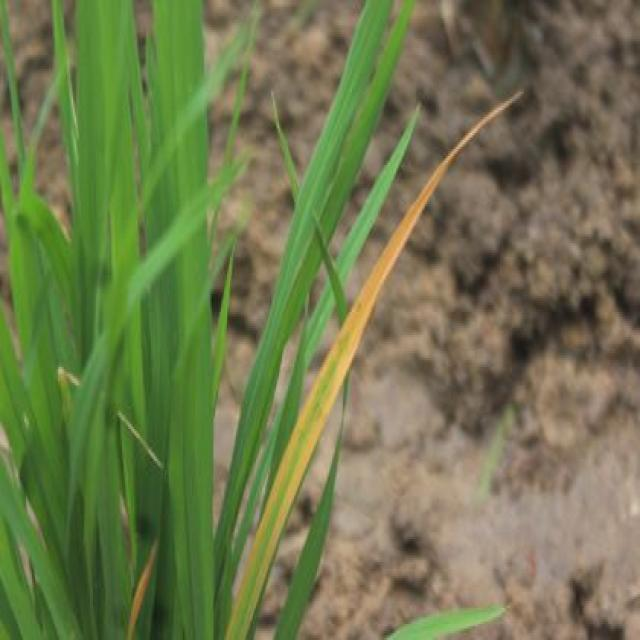Rice Tungro: (227, 151, 447, 635)
